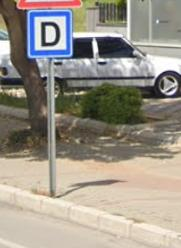station: (28, 10, 68, 54)
